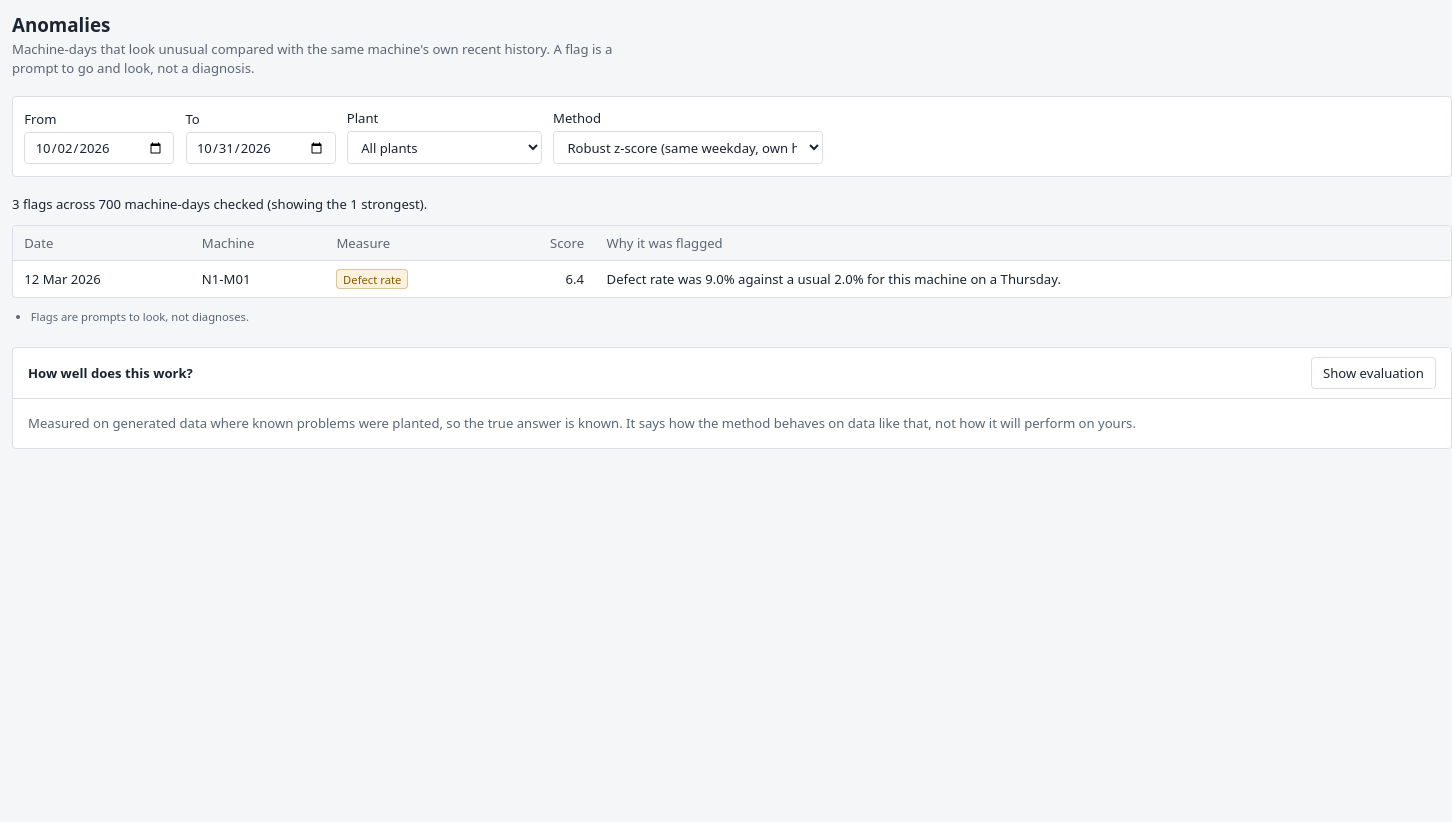
AnomaliesPage › shows the benchmark only on request and labels it as synthetic with its limitations
The width and height of the screenshot is (1452, 822).
Expected: the table named "Flagged machine-days" is shown, [13,226,1451,297]
Step 1. Click the button "Show evaluation" → (1373, 373), box [1311,357,1436,389]
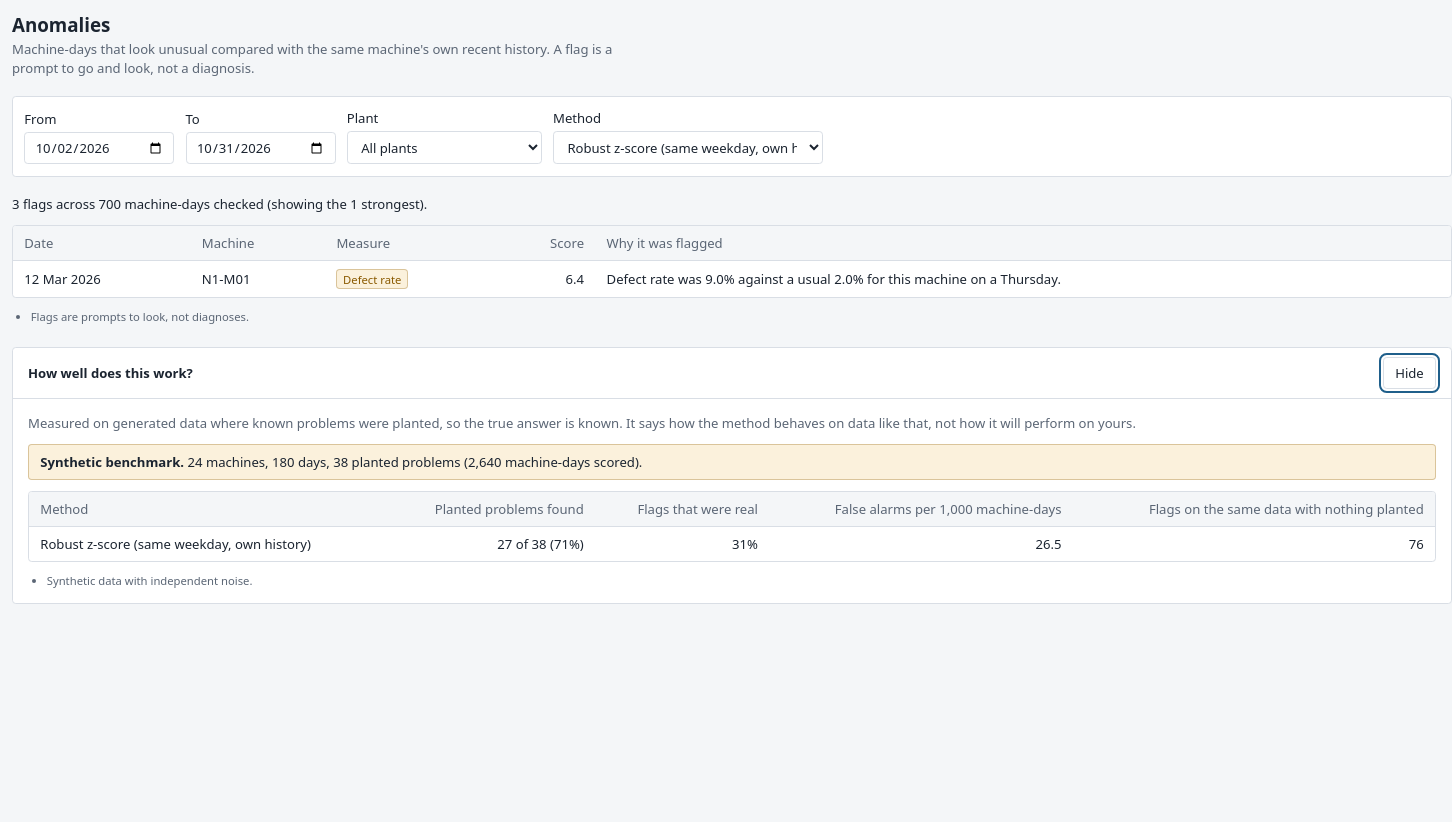
Expected: the text "Synthetic benchmark." is shown, [40,453,184,471]
Expected: the text "27 of 38 (71%)" is shown, [386,527,595,561]
Expected: the text "31%" is shown, [595,527,769,561]
